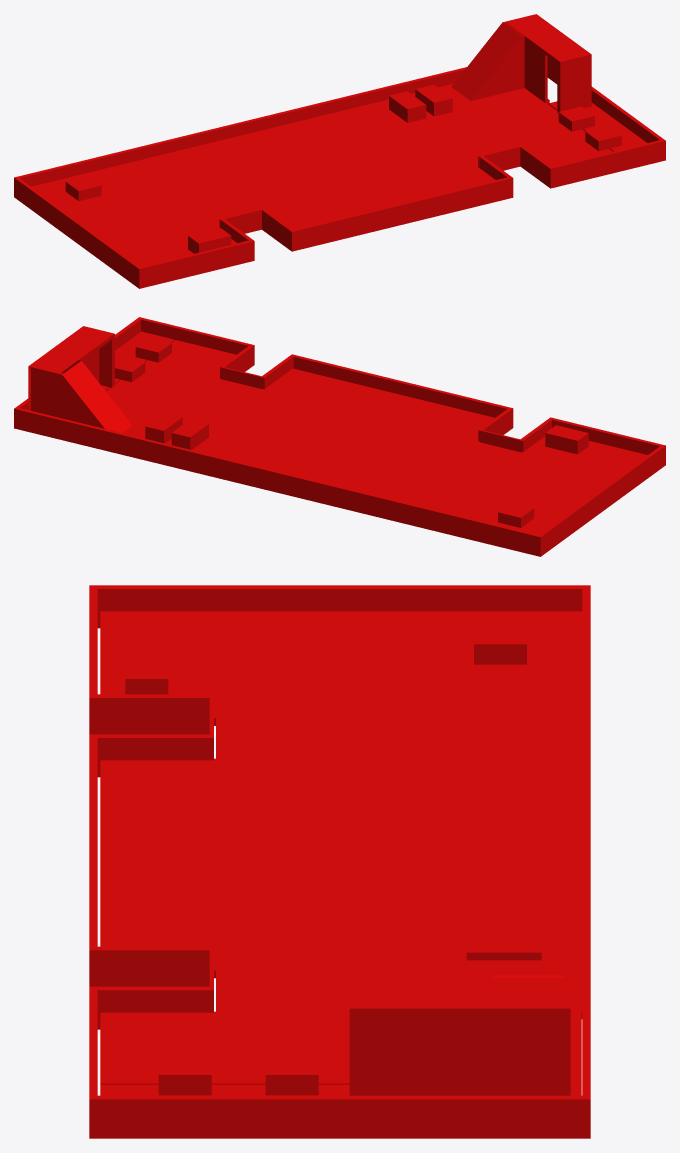
Rendered from SM_Bld_HighRise_Large_01_Interior_Roof_01_Collision.fbx.
3 renders of one model, top to bottom at view 1: azimuth 30°, elevation 25°; view 2: azimuth 150°, elevation 25°; view 3: azimuth 270°, elevation 25°, orthographic. The views are drawn at different scales.
Parts seen in each view (by area): view 1: SM_Bld_HighRise_Large_01_Interior_Roof_01_Collision; view 2: SM_Bld_HighRise_Large_01_Interior_Roof_01_Collision; view 3: SM_Bld_HighRise_Large_01_Interior_Roof_01_Collision.
Boxes of the visible parts, <box> form: SM_Bld_HighRise_Large_01_Interior_Roof_01_Collision: <box>14,14,665,288</box>; SM_Bld_HighRise_Large_01_Interior_Roof_01_Collision: <box>14,317,665,556</box>; SM_Bld_HighRise_Large_01_Interior_Roof_01_Collision: <box>89,585,590,1138</box>.
Bounding box in the file's own units: 2628 × 289 × 1083.
